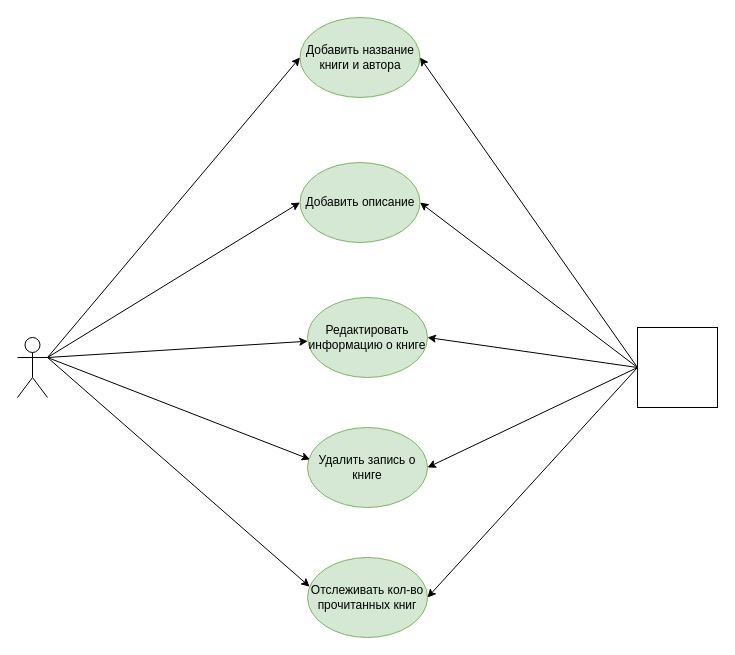
This 735x655 diagram has some shape labels left out. The centre of each missing label's shape, as x and y in pixels:
"Actor" goes at (x=32, y=367).
"Finished Books Tracking" goes at (x=677, y=367).
